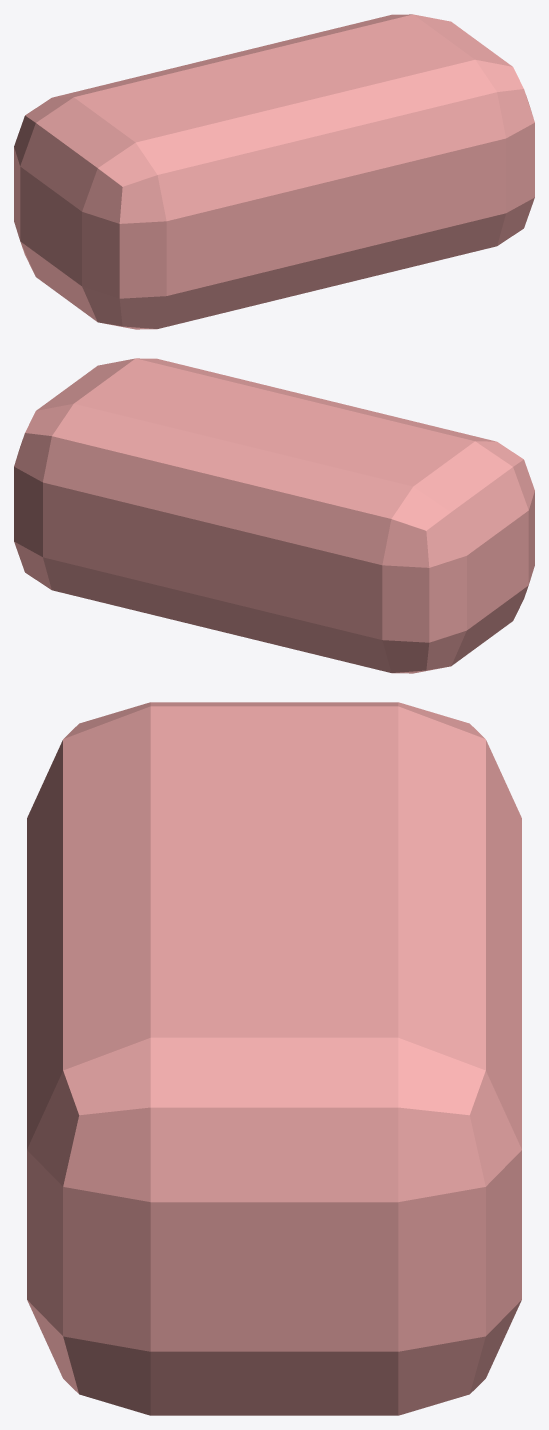
Rendered from item_eraser.glb.
3 renders of one model, top to bottom at view 1: azimuth 30°, elevation 25°; view 2: azimuth 150°, elevation 25°; view 3: azimuth 270°, elevation 25°, orthographic. The views are drawn at different scales.
Visible parts, largest first — view 1: eraser; view 2: eraser; view 3: eraser.
Part boxes in pixels (x1=…): eraser: x1=14, y1=14, x2=534, y2=329; eraser: x1=14, y1=358, x2=534, y2=673; eraser: x1=27, y1=702, x2=521, y2=1415.
Bounding box in the file's own units: 0.05 × 0.02 × 0.024.
